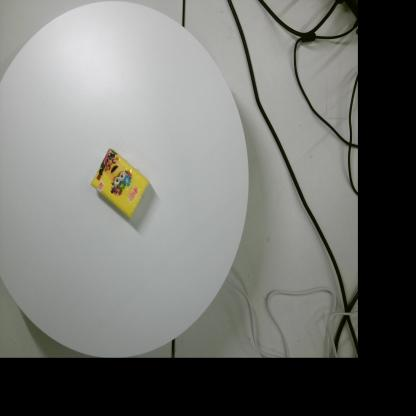Tissue: (90, 148, 150, 220)
